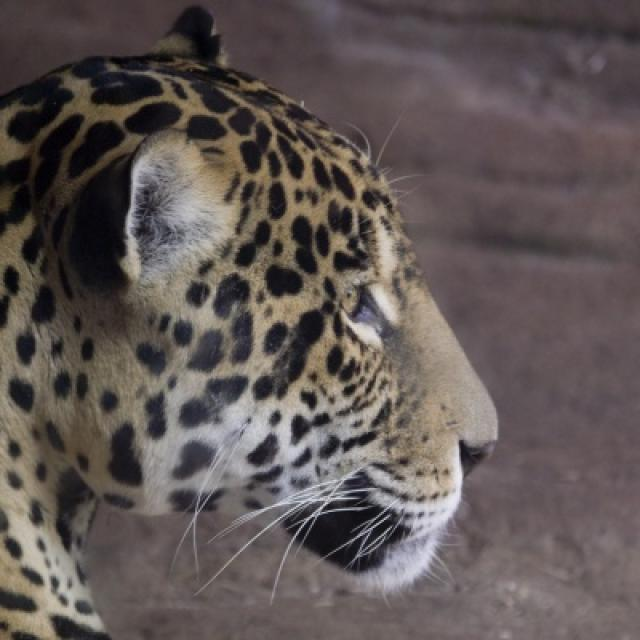Jaguar: (0, 6, 499, 638)
